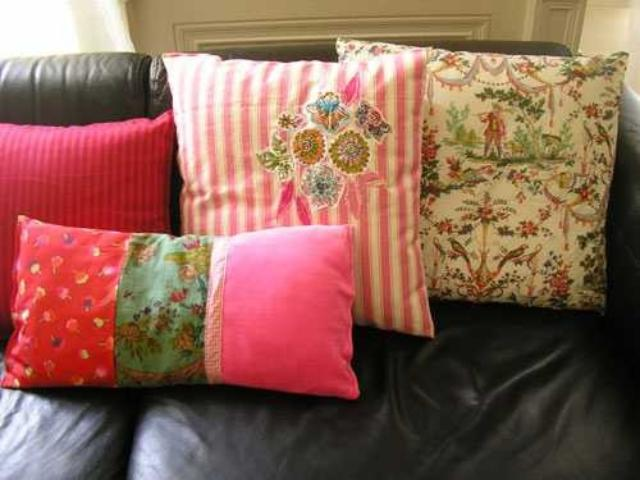pillow: (334, 36, 630, 314), (160, 52, 436, 338), (0, 213, 360, 399), (1, 108, 176, 340)
